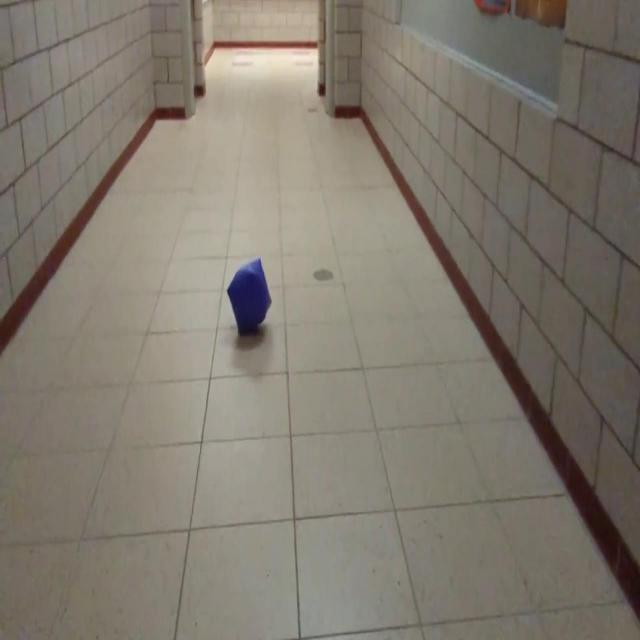frc_cube: (226, 255, 272, 335)
